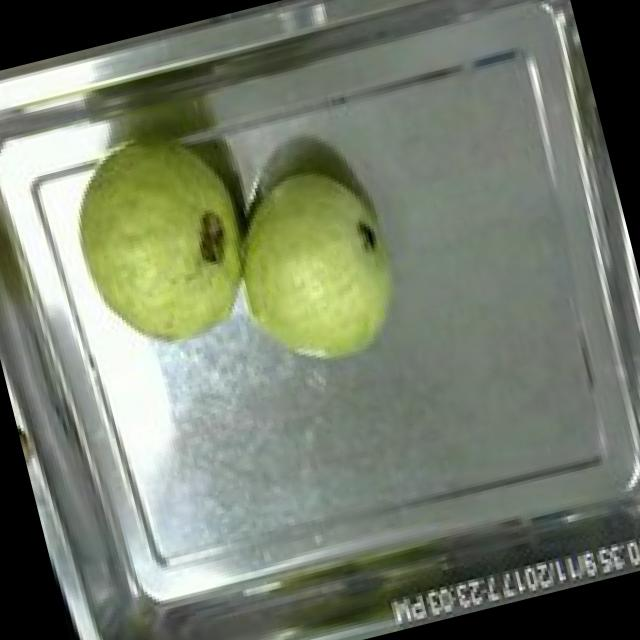Fruit: (42, 112, 281, 370), (205, 150, 416, 390)
